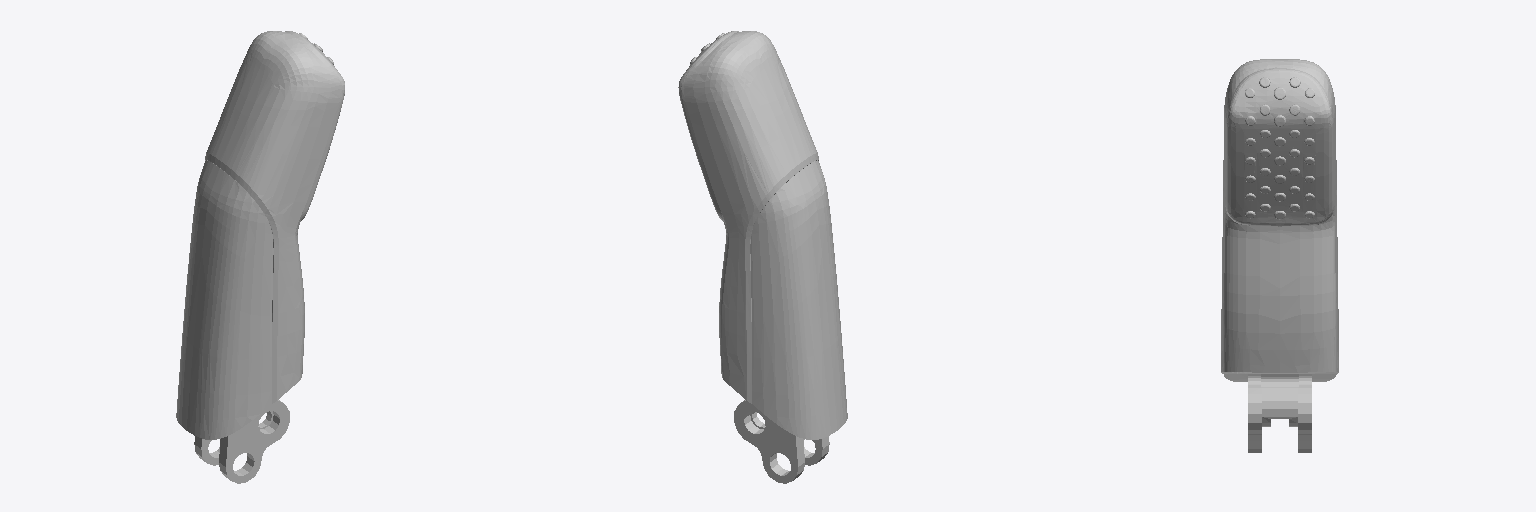
The model's file is left_middle_2_collisions.obj.
The picture shows the model from 3 angles: view 1: azimuth 30°, elevation 25°; view 2: azimuth 150°, elevation 25°; view 3: azimuth 270°, elevation 25°; orthographic projection.
Bounding box in the file's own units: 0.0229 × 0.0658 × 0.0168.